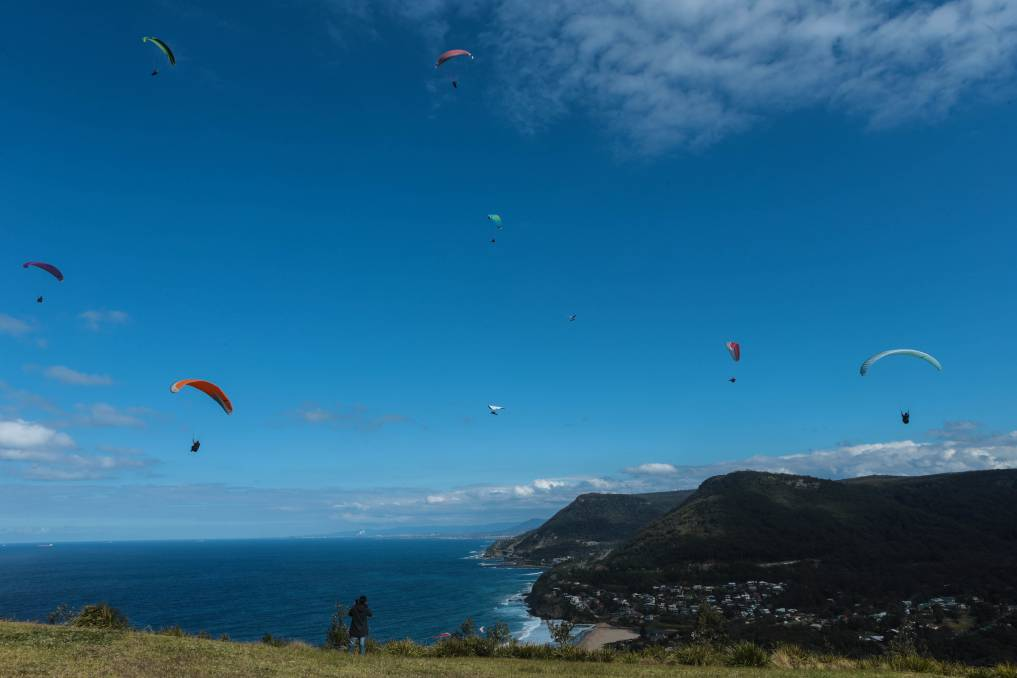Paraglider: (849, 331, 953, 383), (167, 365, 248, 419), (132, 28, 184, 63), (18, 256, 81, 283), (426, 42, 481, 66)
